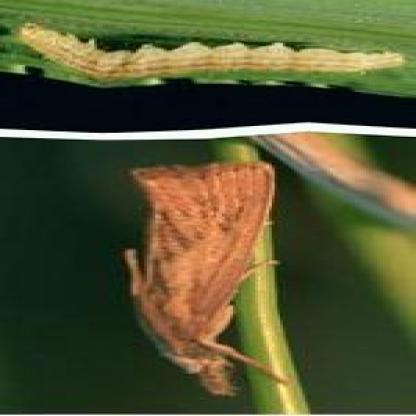stem-borer: (116, 158, 298, 400)
